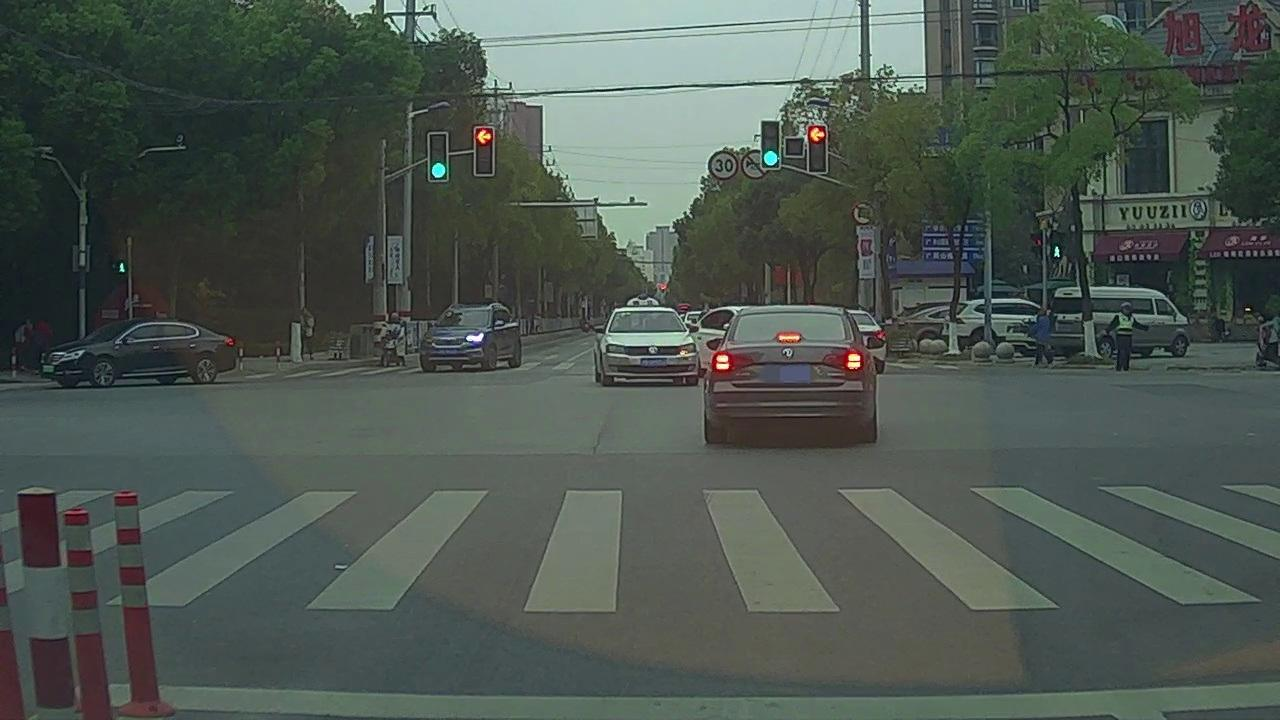traffic_light: (430, 133, 447, 181), (475, 127, 492, 175), (811, 125, 826, 172), (764, 121, 779, 167)
